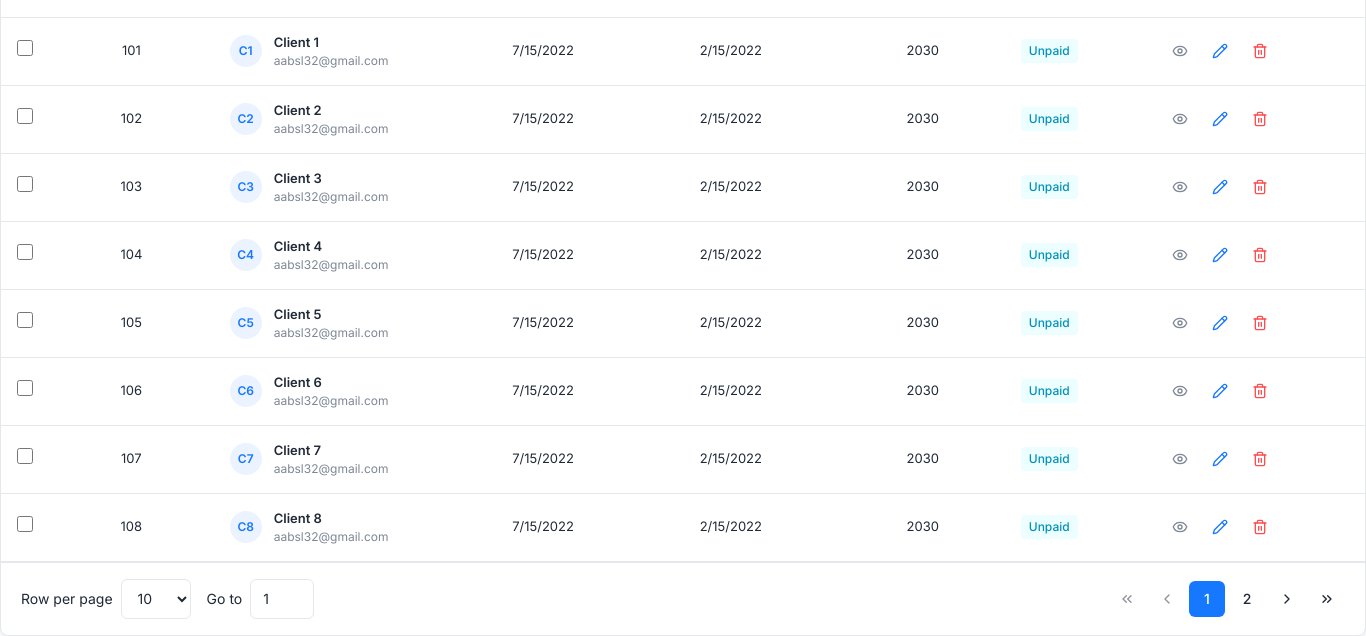
Test: Invoice List › paginates, jumps to a page and resets when filtering
This screenshot has width=1366, height=636.
(page scrolled)
Select "5" in the dropdown labelled "Row per page" at {"x": 156, "y": 598}, box [121,578,191,618]
(page scrolled)
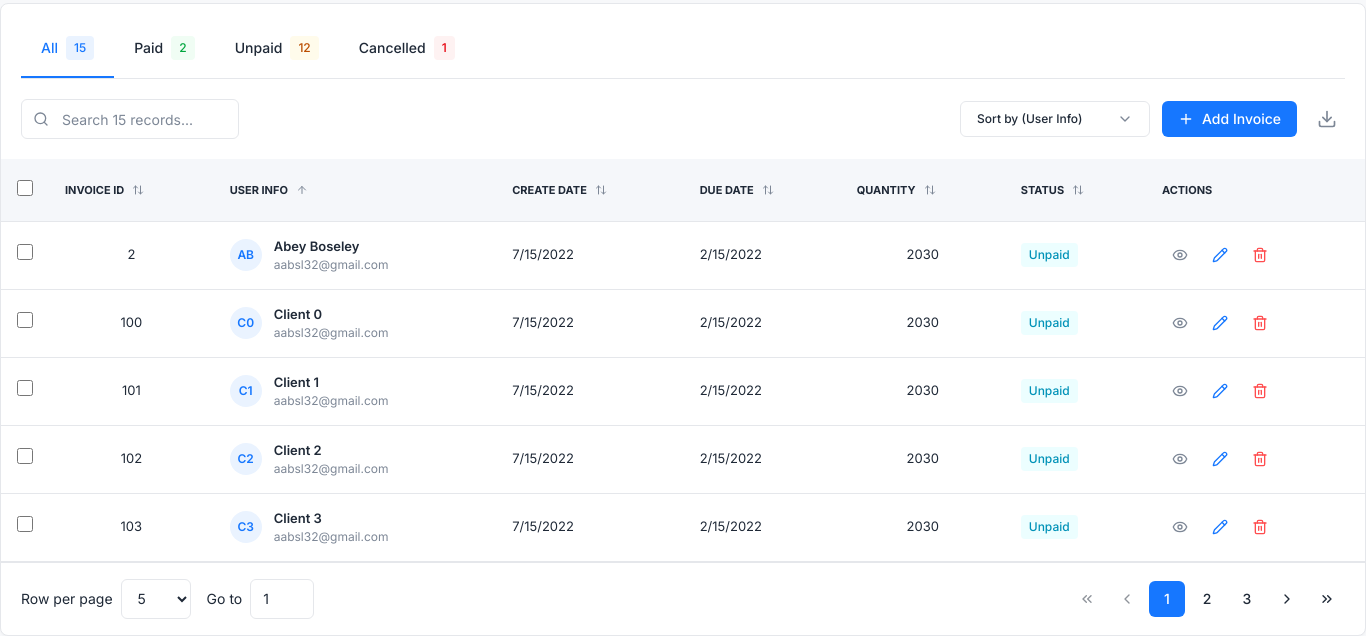
Click the button named "Go to last page" at {"x": 1327, "y": 598}, box [1309,580,1345,616]
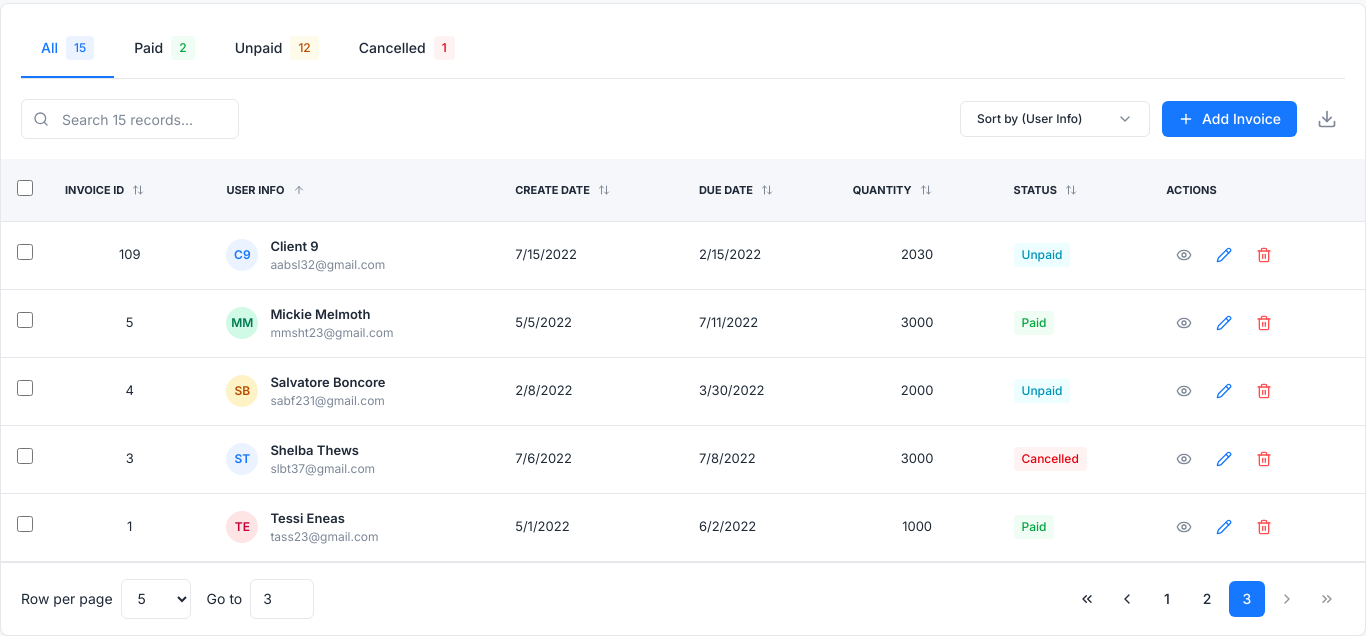
Result: the number field named "Go to page" holds "3"
Replace the text in the number field named "Go to page" with "2" at {"x": 282, "y": 598}, box [250,578,314,618]
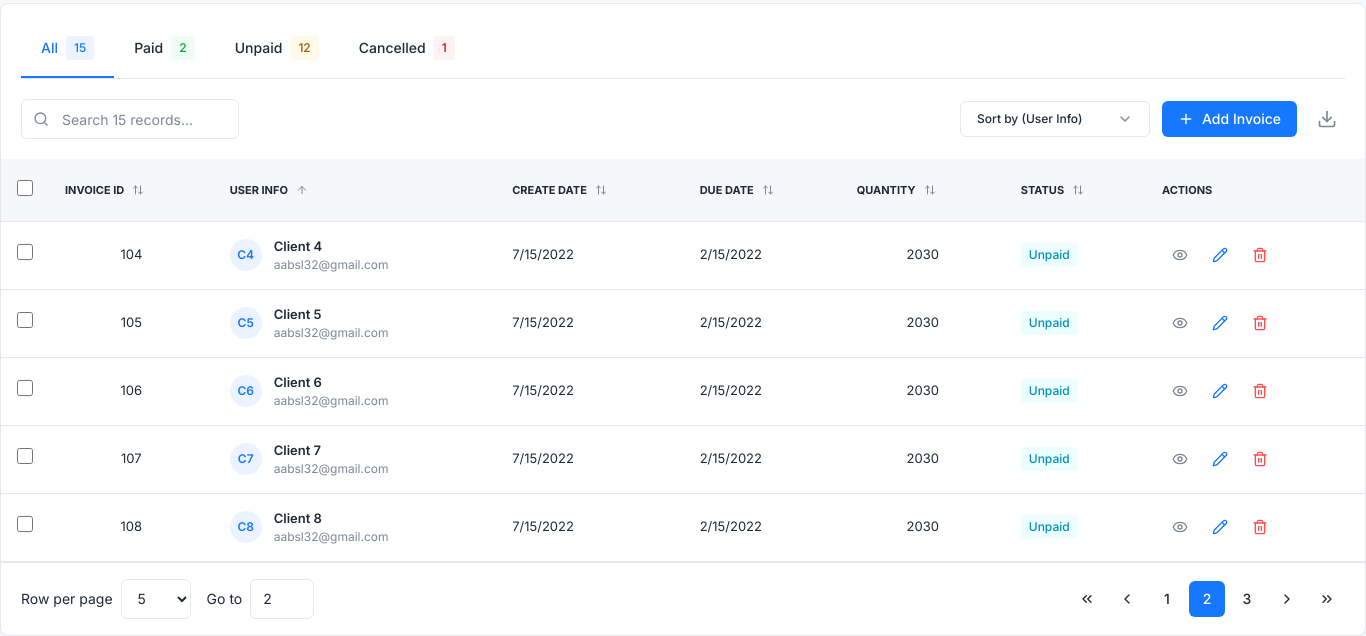
Result: the button named "Page 2" is marked as current at [1189,580,1225,616]
Type "Abey" into the field named "Search invoices" at {"x": 130, "y": 119}, box [21,99,239,139]
(page scrolled)
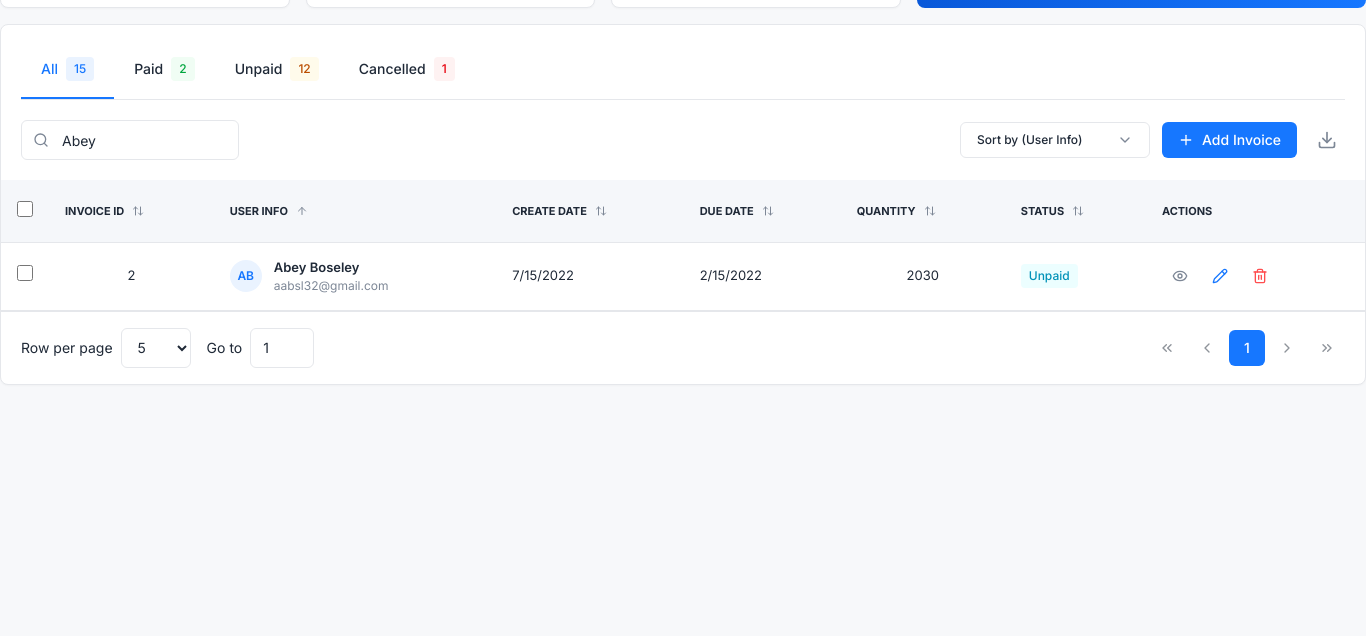
Result: the number field named "Go to page" holds "1" at [250,328,314,368]
